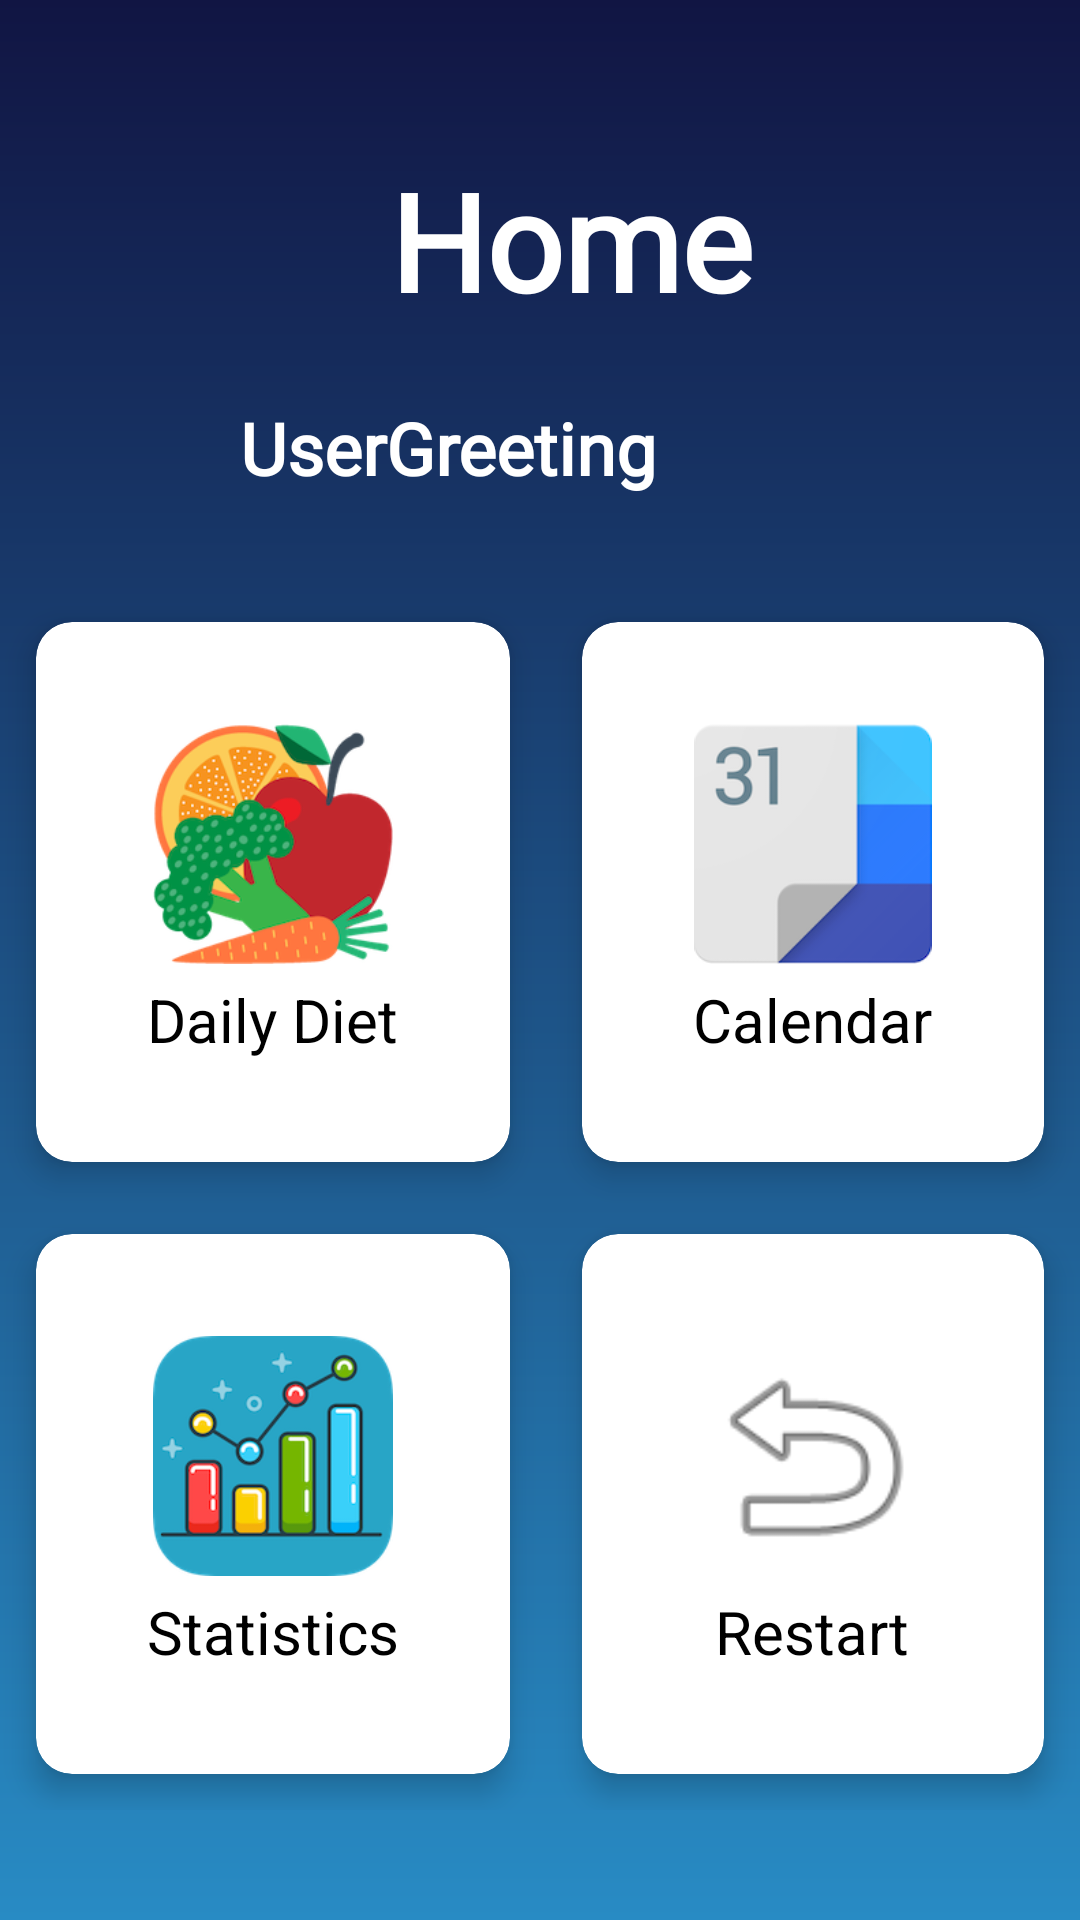

Screen size 1080×1920. Icon name, then its center in pixels as (x=x, y=y):
revert: (x=816, y=1457)
